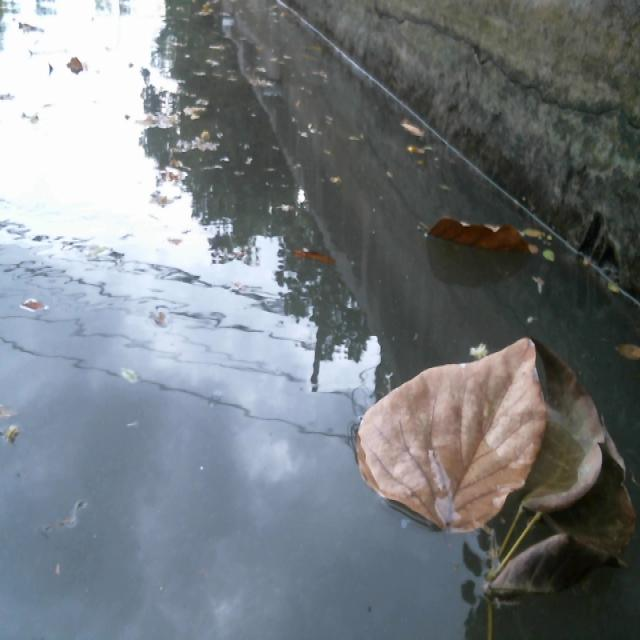Big-leaf: (368, 363, 640, 604), (420, 208, 533, 269)
Small-leaf: (285, 244, 360, 286), (1, 403, 33, 458), (395, 118, 437, 153), (15, 289, 58, 317), (612, 339, 640, 375), (539, 239, 565, 269), (602, 276, 628, 304), (122, 365, 148, 392)
